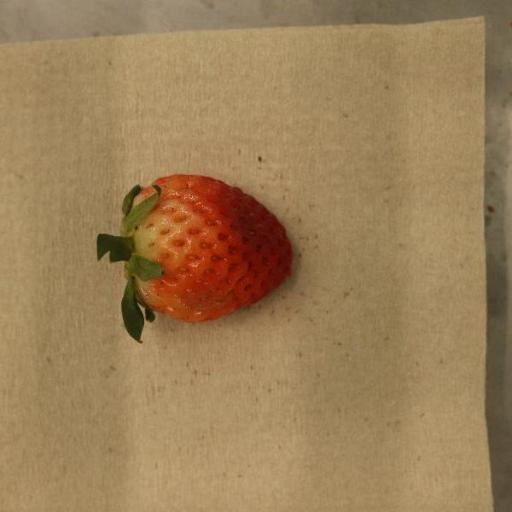Strawberry: (96, 174, 293, 344)
